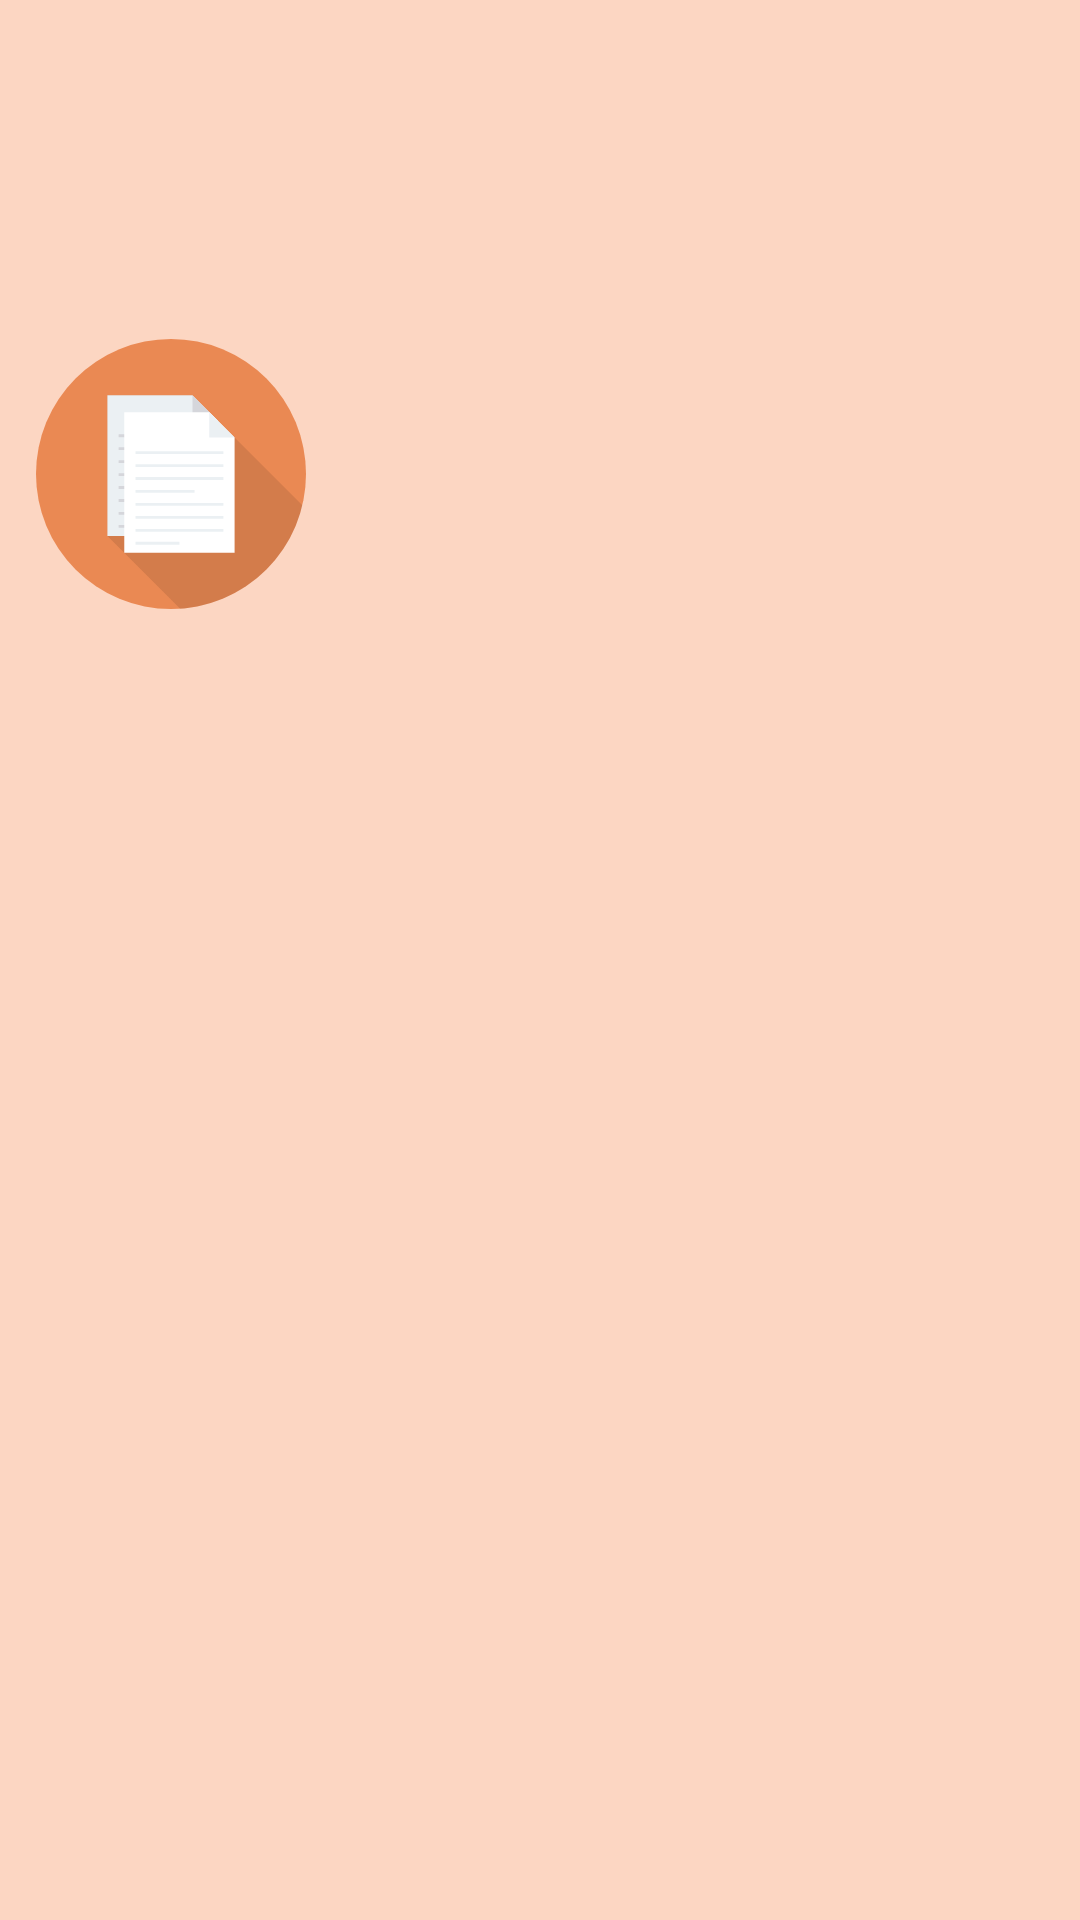

Screen size 1080x1920. Icon name, then its box in pixels as [x1, y1, x2, y2]:
Survey Icon: [36, 339, 306, 609]
